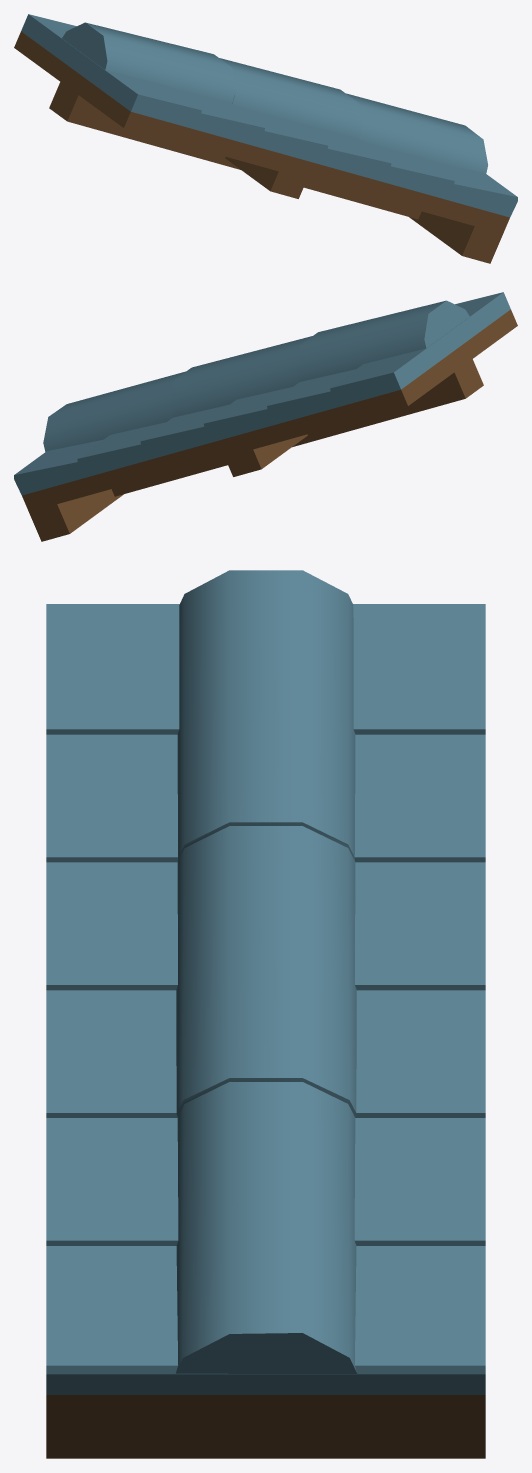
The model's file is BlueRoof_Decor.fbx.
3 renders of one model, top to bottom at view 1: azimuth 30°, elevation 25°; view 2: azimuth 150°, elevation 25°; view 3: azimuth 270°, elevation 25°, orthographic. The views are drawn at different scales.
Parts seen in each view (by area): view 1: BlueRoof_Decor; view 2: BlueRoof_Decor; view 3: BlueRoof_Decor.
Part boxes in pixels (box(x1,y1,x2,y2)): BlueRoof_Decor: box(14, 14, 517, 263); BlueRoof_Decor: box(14, 292, 517, 541); BlueRoof_Decor: box(46, 570, 485, 1458).
Size of what is drawn, in the model's own units: 132 by 83.99 by 60.2.
